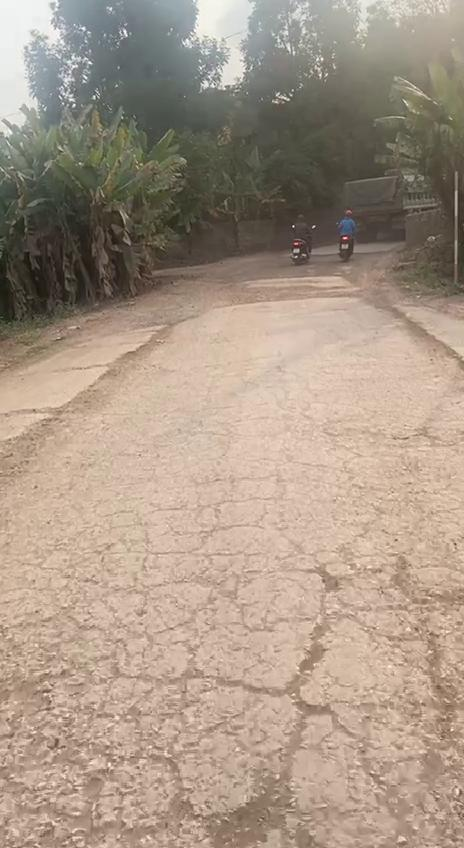pothole: (167, 754, 308, 848)
